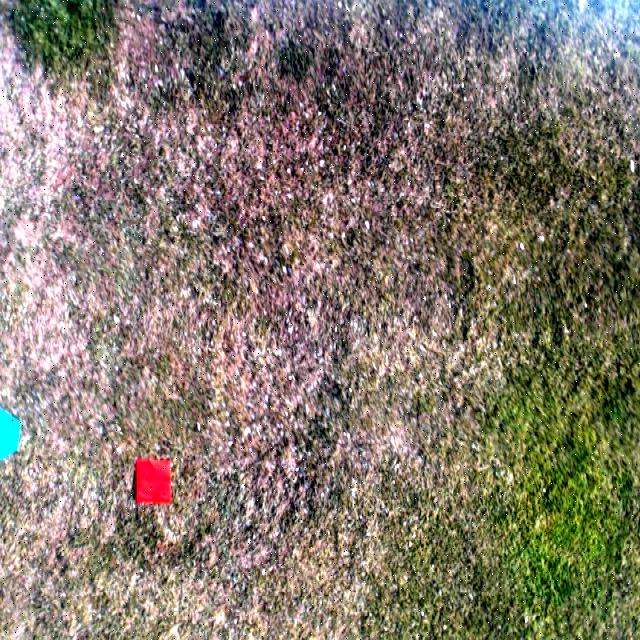red_square: (136, 458, 172, 504)
